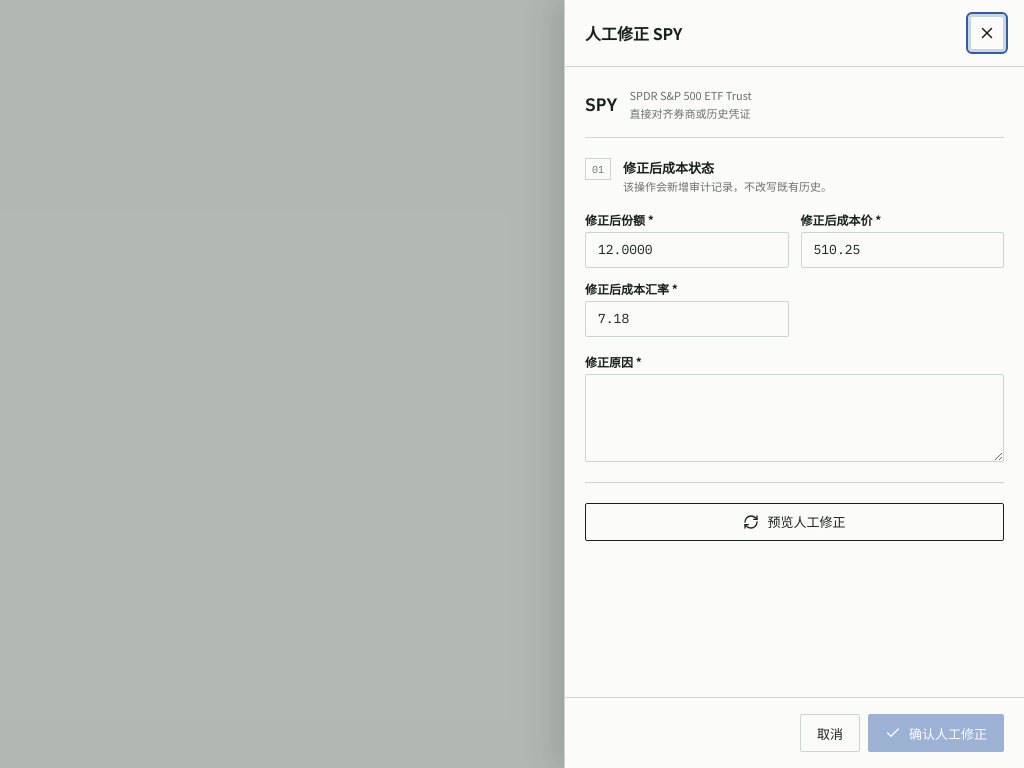
Test: sale, correction, and history drawers › requires a correction note and uses a correction-specific command
The image size is (1024, 768).
Replace the text in the field labelled "修正后份额" with "11": (687, 250) [585,232,788,268]
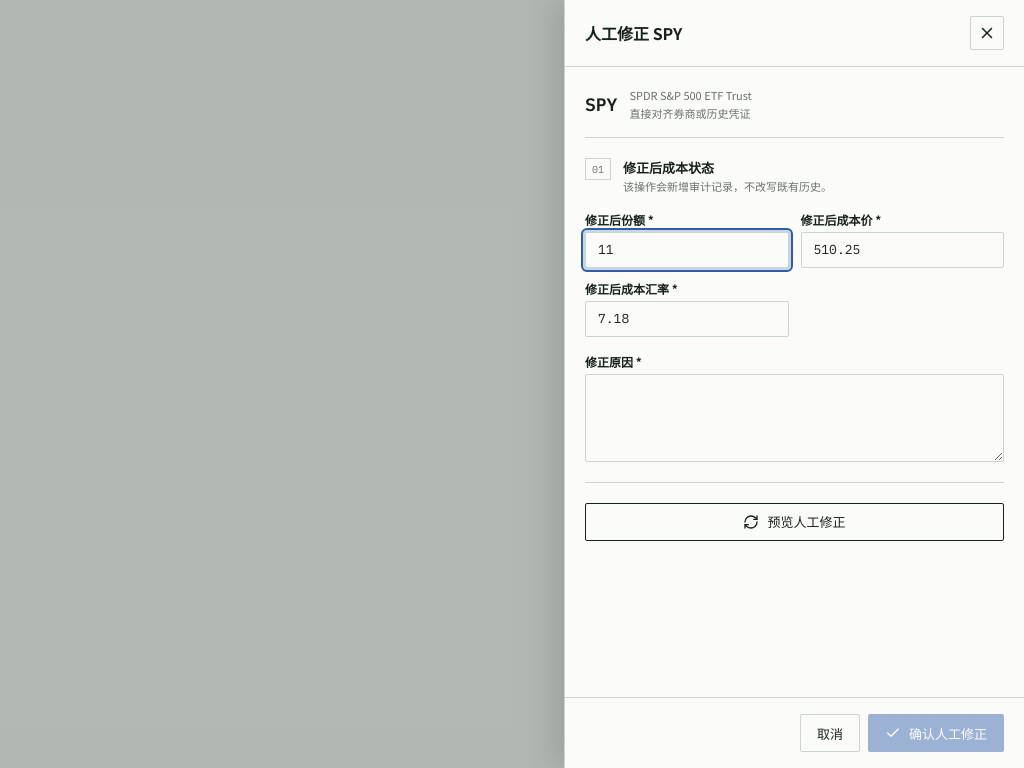
Click the button "预览人工修正": (794, 522) [585,503,1004,541]
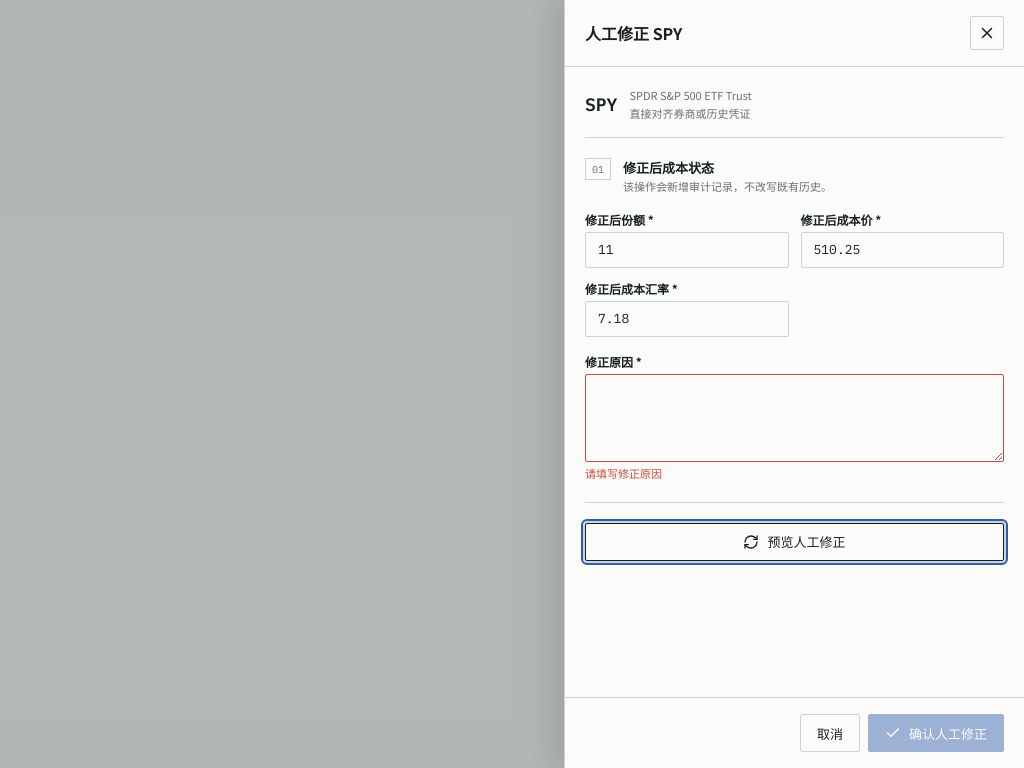
Check: the button "确认人工修正" is disabled, box [868,714,1004,752]
Check: the text "请填写修正原因" is shown, box [585,465,662,481]
